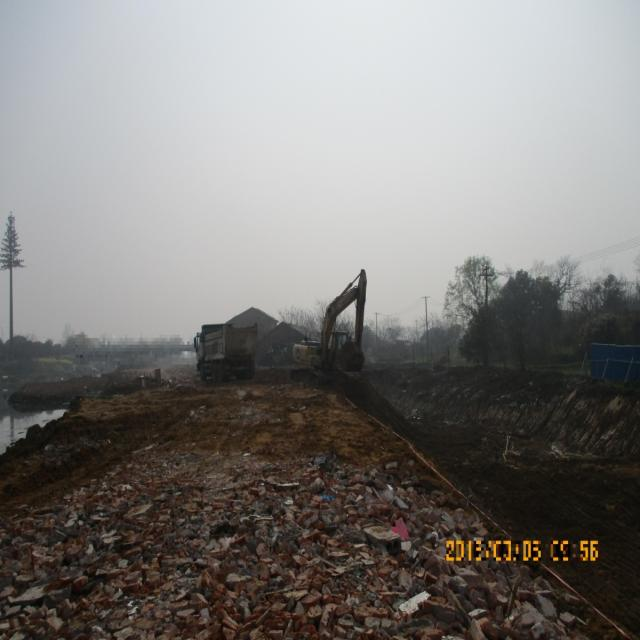excavator: (290, 269, 367, 386)
truck: (193, 322, 258, 382)
